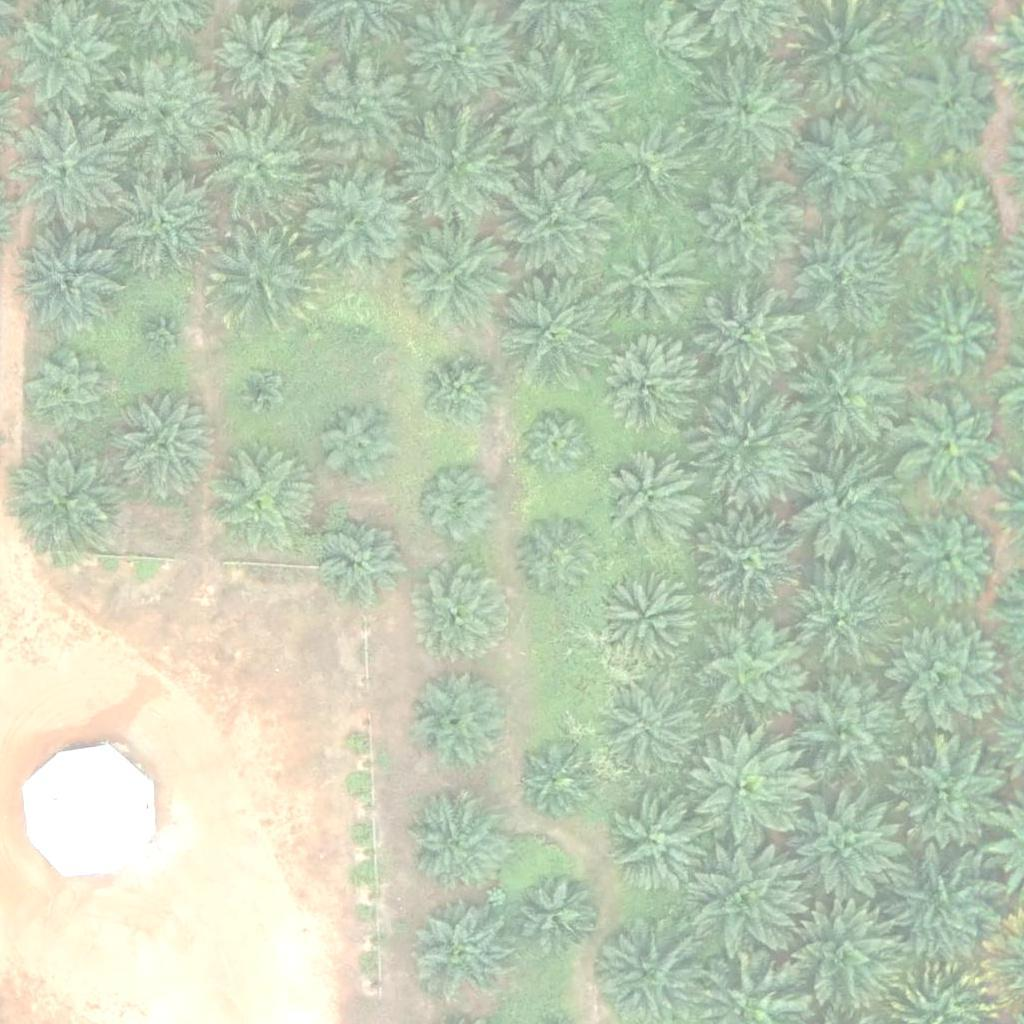Kelapa_Sawit: (496, 267, 609, 381), (396, 108, 509, 222), (791, 107, 904, 220), (787, 217, 900, 330), (687, 54, 800, 167), (693, 171, 806, 284), (401, 218, 514, 331), (303, 58, 416, 171), (11, 2, 124, 115), (11, 115, 124, 228), (14, 230, 127, 343), (14, 443, 127, 556), (695, 389, 808, 502), (696, 506, 809, 619), (792, 337, 905, 450), (789, 451, 902, 564), (783, 562, 896, 675), (791, 677, 904, 790), (891, 617, 1004, 730), (894, 731, 1007, 844), (893, 849, 1006, 962), (693, 282, 805, 396), (500, 48, 612, 162), (502, 165, 614, 279), (206, 443, 318, 557), (691, 846, 803, 960), (205, 219, 317, 332), (788, 2, 900, 115), (308, 165, 420, 278), (203, 109, 315, 222), (103, 55, 215, 168), (107, 162, 219, 275), (107, 393, 219, 506), (691, 615, 803, 728), (690, 736, 802, 849), (793, 788, 905, 901), (896, 391, 1008, 504), (782, 903, 894, 1016), (902, 58, 1002, 159), (903, 168, 1003, 269), (900, 282, 1000, 383), (212, 6, 312, 107), (404, 790, 504, 891), (596, 339, 696, 440), (602, 451, 702, 552), (597, 569, 697, 670), (902, 508, 1002, 609), (412, 901, 512, 1002), (600, 115, 700, 215), (604, 234, 704, 334), (414, 564, 514, 664), (409, 671, 509, 771), (607, 683, 707, 783), (609, 796, 709, 896), (617, 5, 705, 93), (323, 516, 411, 604), (26, 351, 113, 439), (317, 401, 404, 489), (416, 351, 503, 439), (413, 460, 500, 548), (515, 515, 602, 603), (513, 871, 600, 959), (520, 743, 595, 819), (518, 407, 593, 482), (141, 309, 191, 360), (235, 365, 285, 416), (332, 302, 382, 352)
